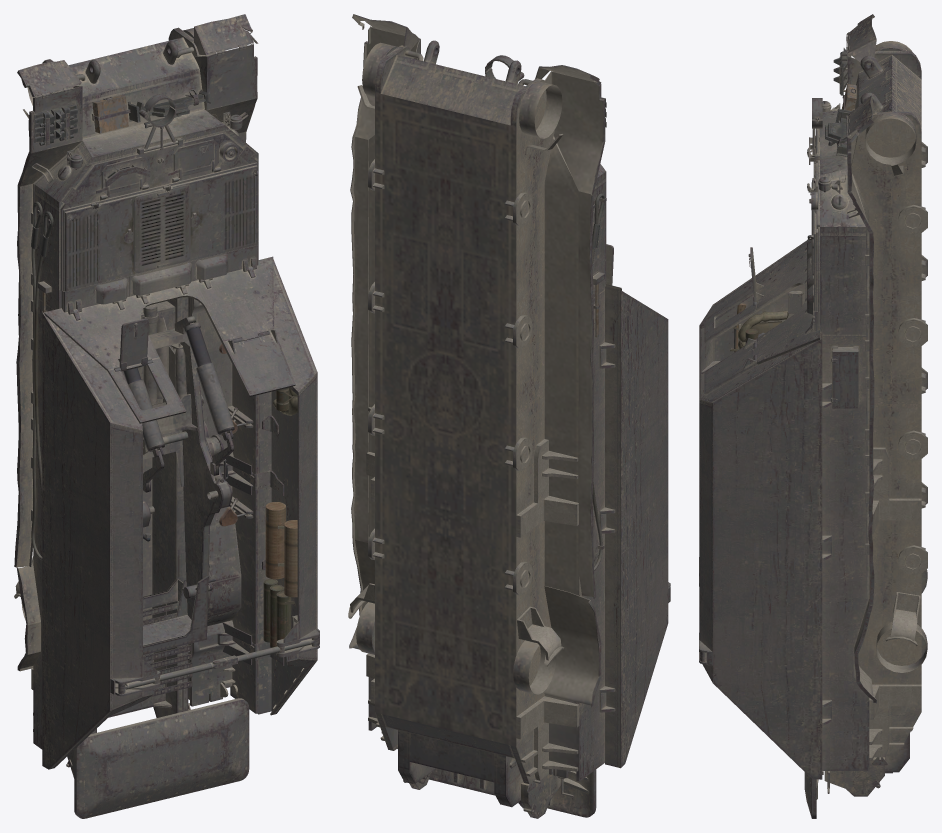
Rendered from Hull.glb.
3 renders of one model, left to right at view 1: azimuth 30°, elevation 25°; view 2: azimuth 150°, elevation 25°; view 3: azimuth 270°, elevation 25°, orthographic. The views are drawn at different scales.
Visible parts, largest first — view 1: set_0_group_0, set_0_group_1; view 2: set_0_group_0, set_0_group_1; view 3: set_0_group_0, set_0_group_1.
Part boxes in pixels (<box>): set_0_group_0: <box>14,14,319,818</box>; set_0_group_1: <box>91,297,234,733</box>; set_0_group_0: <box>348,14,670,818</box>; set_0_group_1: <box>398,730,524,808</box>; set_0_group_0: <box>699,14,927,818</box>; set_0_group_1: <box>885,733,909,773</box>.
Size of the model in its own units: 3.42 by 10.39 by 3.01.
Materials: 2 (2 with a texture image).
